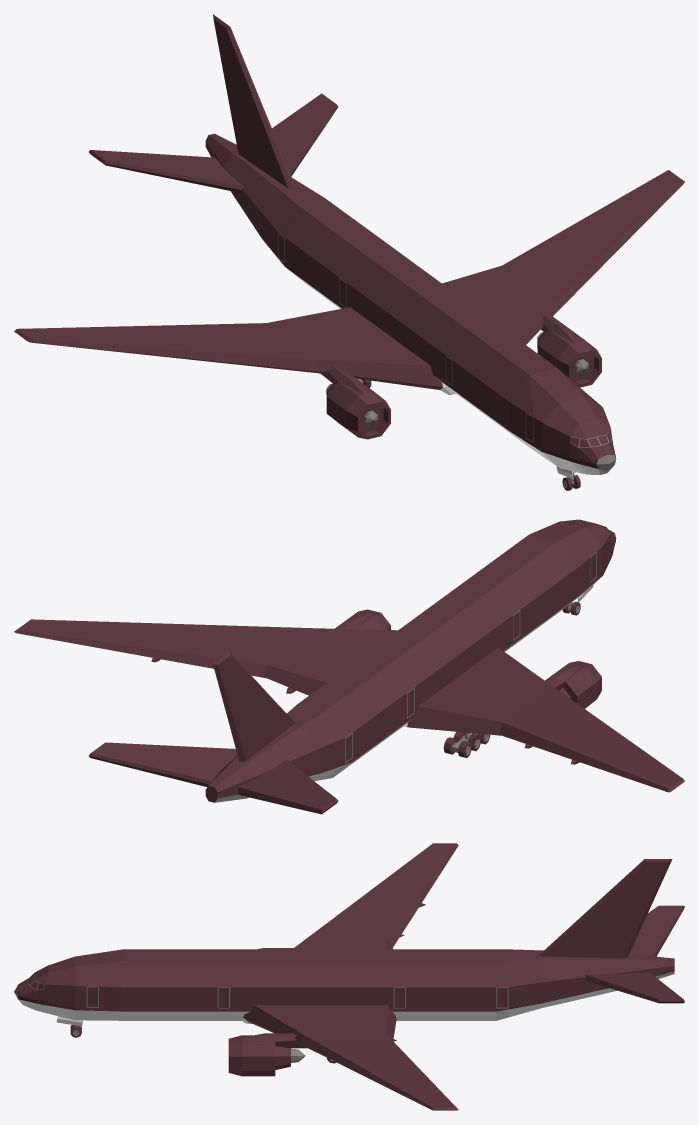
Rendered from plane-passenger.fbx.
3 renders of one model, top to bottom at view 1: azimuth 30°, elevation 25°; view 2: azimuth 150°, elevation 25°; view 3: azimuth 270°, elevation 25°, orthographic. The views are drawn at different scales.
Parts seen in each view (by area): view 1: plane-passenger-base; view 2: plane-passenger-base; view 3: plane-passenger-base.
Part boxes in pixels (box(x1,y1,x2,y2)): plane-passenger-base: box(14, 14, 684, 483); plane-passenger-base: box(14, 519, 684, 814); plane-passenger-base: box(14, 843, 684, 1110).
Size of the model in its own units: 60.97 by 18.84 by 64.92.
